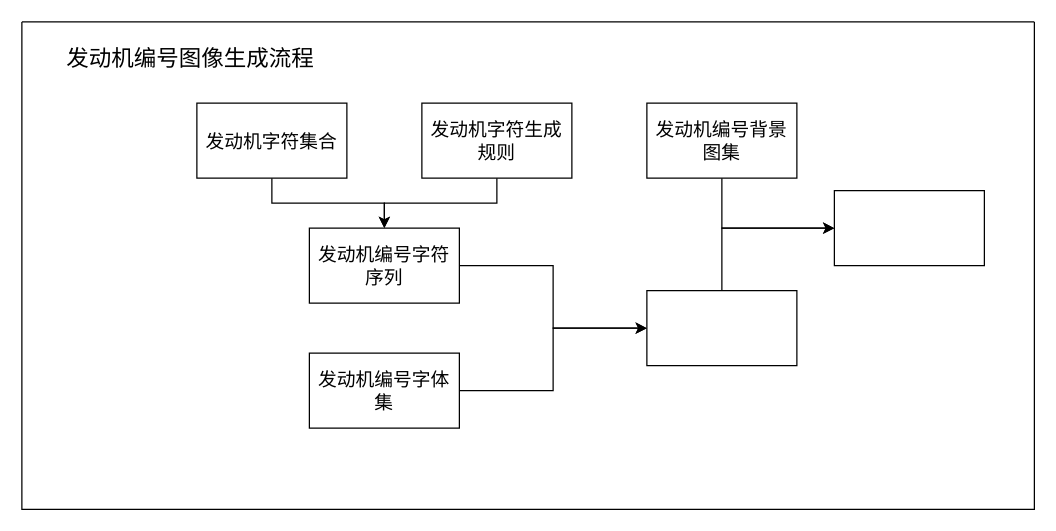
This 1056x531 diagram has some shape labels left out. Each missing label, with the centre of its shape:
发动机编号图集: (x=721, y=327)
发动机编号生成图像: (x=908, y=227)
